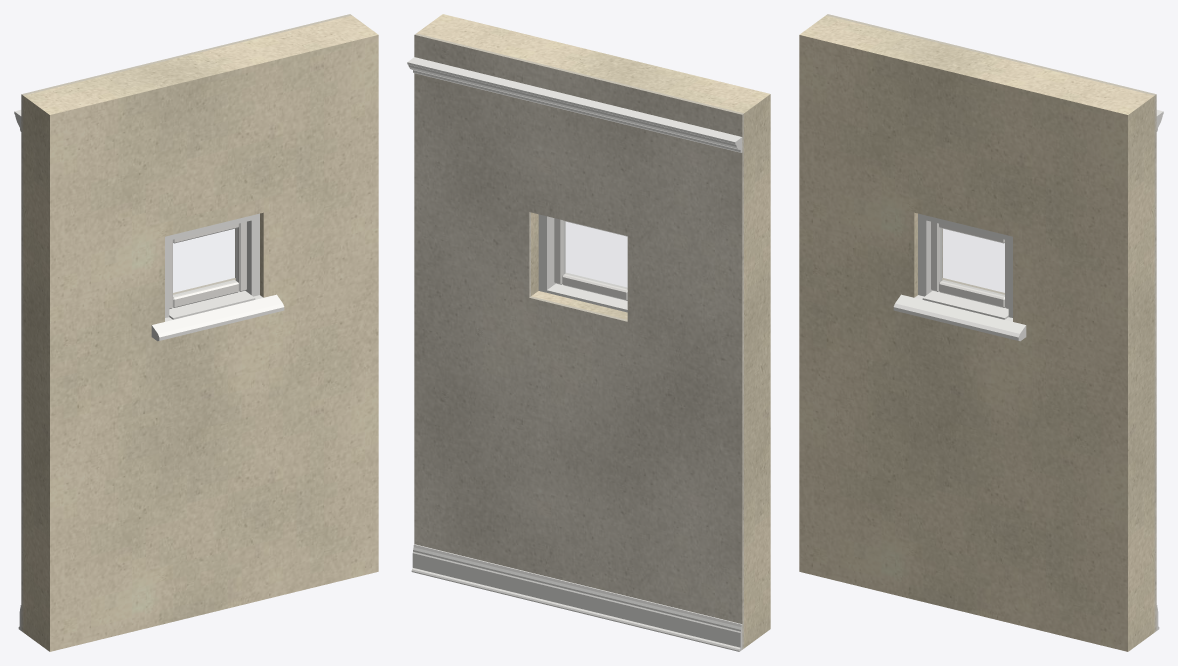
The model's file is wall_small.glb.
3 views of the same model, side by side, from view 1: azimuth 30°, elevation 25°; view 2: azimuth 150°, elevation 25°; view 3: azimuth 330°, elevation 25° (orthographic).
Parts seen in each view (by area): view 1: wall_small_stucco, wall_small_trim, wall_small_glass, wall_small_plaster, wall_small_sash, wall_small_frame; view 2: wall_small_plaster, wall_small_stucco, molduras, wall_small_glass, wall_small_sash, wall_small_frame, wall_small_trim; view 3: wall_small_stucco, wall_small_trim, wall_small_glass, wall_small_plaster, wall_small_sash, wall_small_frame.
Part boxes in pixels (<box>): wall_small_stucco: <box>23,15,378,651</box>; wall_small_trim: <box>151,291,284,341</box>; wall_small_glass: <box>173,229,236,295</box>; wall_small_plaster: <box>21,14,351,631</box>; wall_small_sash: <box>169,221,246,308</box>; wall_small_frame: <box>165,213,259,317</box>; wall_small_plaster: <box>414,33,743,649</box>; wall_small_stucco: <box>416,14,770,648</box>; molduras: <box>407,57,742,651</box>; wall_small_glass: <box>564,222,626,288</box>; wall_small_sash: <box>554,218,627,300</box>; wall_small_frame: <box>538,214,555,292</box>; wall_small_trim: <box>547,283,627,312</box>; wall_small_stucco: <box>799,15,1154,651</box>; wall_small_trim: <box>893,291,1026,341</box>; wall_small_glass: <box>941,229,1004,295</box>; wall_small_plaster: <box>826,14,1156,631</box>; wall_small_sash: <box>931,221,1008,308</box>; wall_small_frame: <box>918,213,1012,317</box>.
Bounding box in the file's own units: 2 × 3.12 × 0.455.
Materials: 6 (2 with a texture image).
